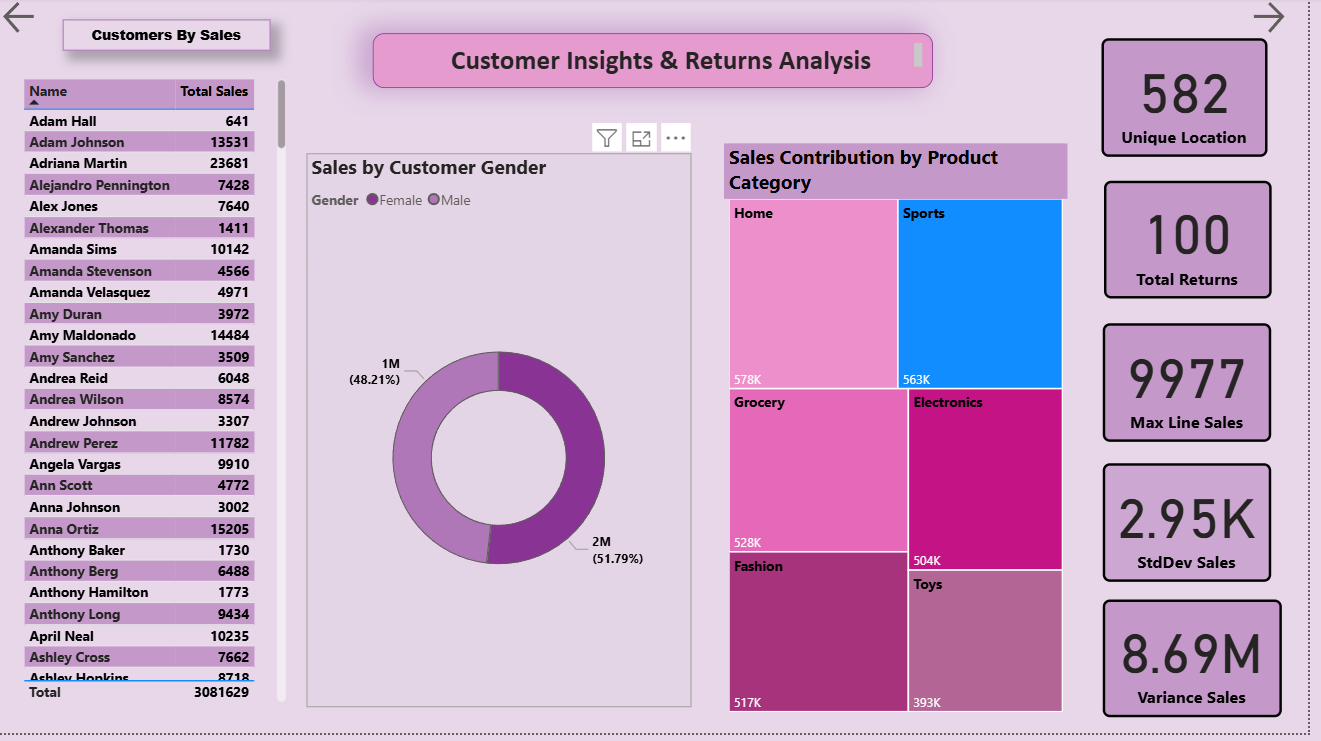

This screenshot's page, from the dashboard's own definition file:
{"tool":"powerbi","page":{"name":"           Customer Insights & Returns Analysis","canvas":[1280,720],"ordinal":2},"visuals":[{"type":"tableEx","fields":{"Values":["Customers.Name","measure.Total Sales"]},"box":[18.8,76.2,267.5,618.8],"z":0},{"type":"textbox","box":[62.9,21.4,202.9,30],"z":1000},{"type":"card","fields":{"Values":["measure.Unique Location"]},"box":[1078.8,40,162.5,116.2],"z":2000},{"type":"card","fields":{"Values":["measure.Total Returns"]},"box":[1081.2,180,163.8,115],"z":3000},{"type":"card","fields":{"Values":["measure.Max Line Sales"]},"box":[1080,318.8,165,116.2],"z":4000},{"type":"card","fields":{"Values":["measure.StdDev Sales"]},"box":[1080,456.2,165,116.2],"z":5000},{"type":"card","fields":{"Values":["measure.Variance Sales"]},"box":[1079.8,589.4,174.9,114.9],"z":6000},{"type":"donutChart","title":" Sales by Customer Gender","fields":{"Category":["Customers.Gender"],"Y":["measure.Total Sales"]},"box":[300.8,152.9,376.6,541.7],"z":7000},{"type":"treemap","title":"Sales Contribution by Product Category","fields":{"Group":["Products.Category"],"Values":["measure.Total Sales"]},"box":[709.2,143.1,336.3,561.3],"z":8000},{"type":"textbox","box":[365.6,35.5,547.8,53.8],"z":9000},{"type":"actionButton","box":[1221.2,0,58.8,40],"z":10000},{"type":"actionButton","box":[0,0,100,40],"z":11000}]}

Visuals, with their boxes in screenshot pixels (x1, y1, x2, y2), scaled from the page's 1280x720 canvas onto the 1321x741 screenshot:
tableEx - Customers.Name x measure.Total Sales: rect(19, 78, 295, 715)
textbox: rect(65, 22, 274, 53)
card - measure.Unique Location: rect(1113, 41, 1281, 161)
card - measure.Total Returns: rect(1116, 185, 1285, 304)
card - measure.Max Line Sales: rect(1115, 328, 1285, 448)
card - measure.StdDev Sales: rect(1115, 470, 1285, 589)
card - measure.Variance Sales: rect(1114, 607, 1295, 725)
" Sales by Customer Gender" donutChart: rect(310, 157, 699, 715)
"Sales Contribution by Product Category" treemap: rect(732, 147, 1079, 725)
textbox: rect(377, 37, 943, 92)
actionButton: rect(1260, 0, 1320, 41)
actionButton: rect(0, 0, 103, 41)
